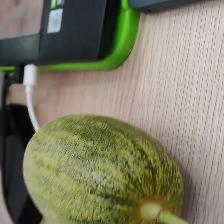gua: (24, 118, 164, 218)
